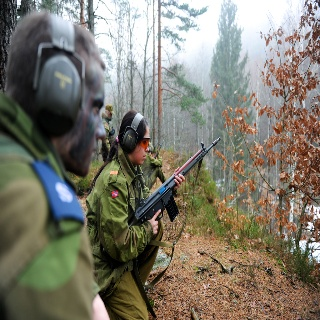rifle: (127, 137, 224, 226)
